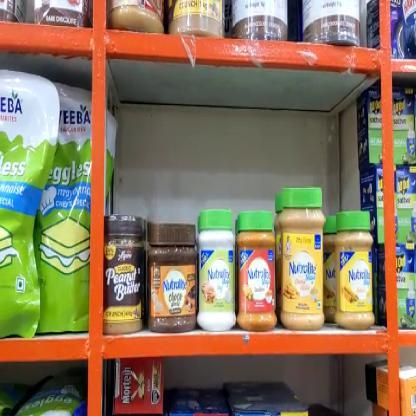Nutralite ACHARI MAYO 300g-275g-25g-: (336, 210, 374, 328)
Nutralite CHEESY GARLIC MAYO 300g-275g-25g-: (280, 184, 322, 328)
Nutralite CHOCO SPREAD CALCIUM 275g: (145, 215, 196, 330)
Nutralite TANDOORI MAYO 300g-275g-25g-: (238, 208, 274, 326)
Nutralite VEG MAYO 300g-275g-25g-: (198, 202, 235, 331)
